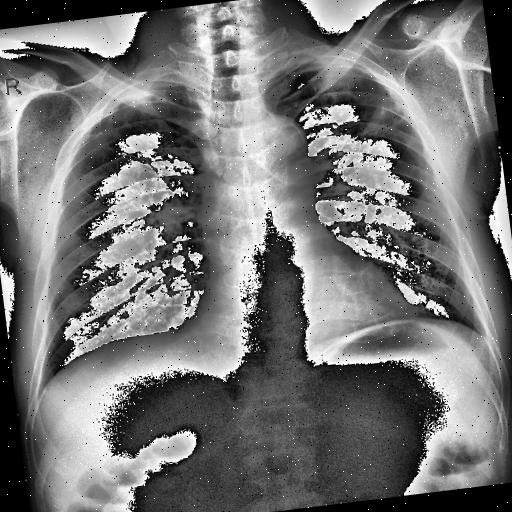0- Aortic enlargement: (240, 112, 313, 180), (237, 110, 311, 174)
11- Pleural thickening: (82, 72, 186, 140), (94, 72, 190, 118), (348, 80, 410, 140), (91, 76, 184, 116), (289, 41, 372, 84), (312, 48, 375, 86), (308, 50, 370, 82)
13- Pulmonary fibrosis: (97, 119, 201, 217), (110, 130, 202, 217), (96, 137, 184, 216), (348, 80, 410, 140), (344, 97, 420, 145), (358, 105, 408, 138)
2- Calcification: (289, 121, 305, 144)
7- Lung Opacity: (348, 80, 410, 140)
